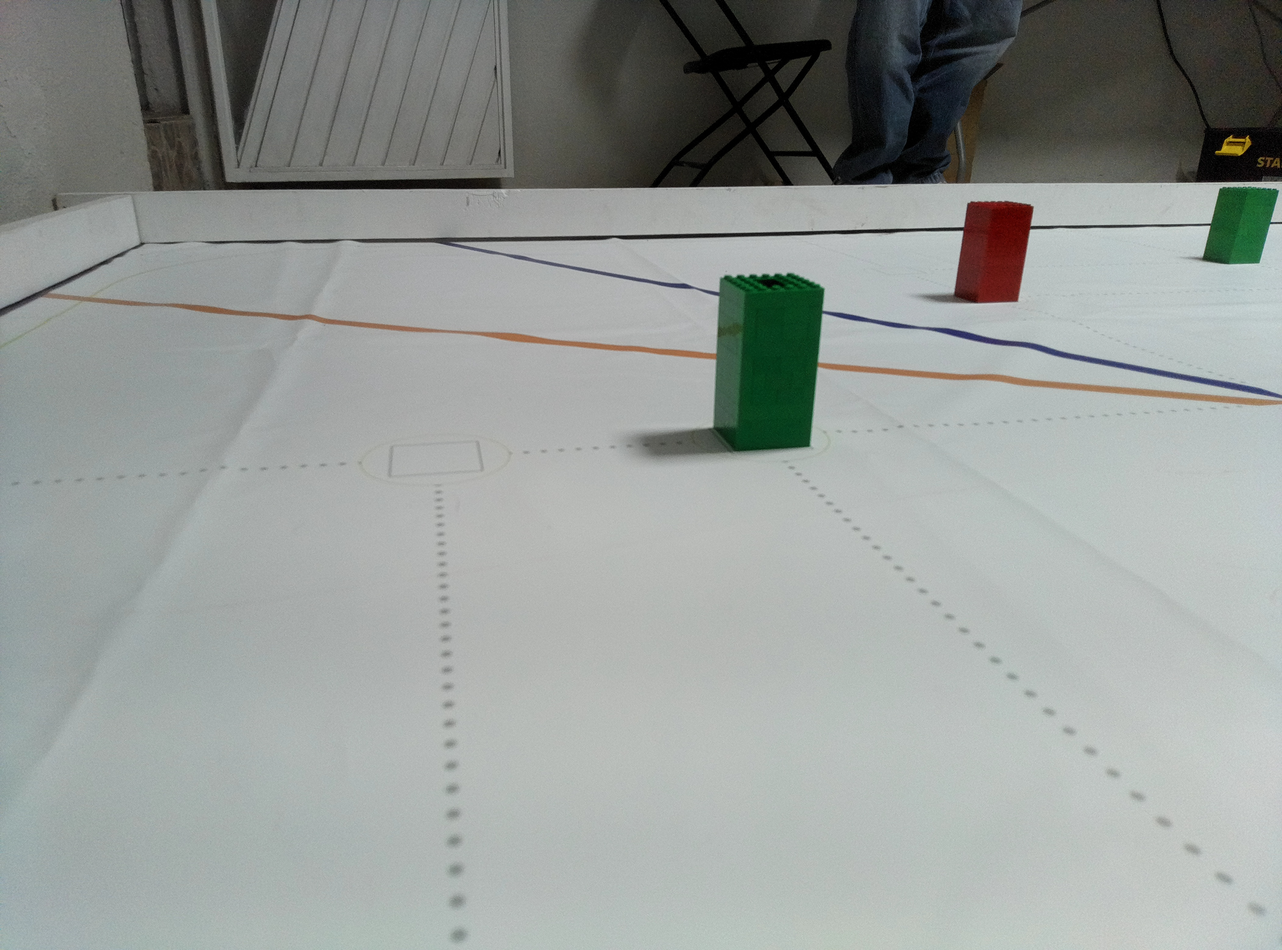greenbox: (711, 266, 825, 451), (1201, 185, 1280, 267)
redbox: (953, 198, 1035, 305)
